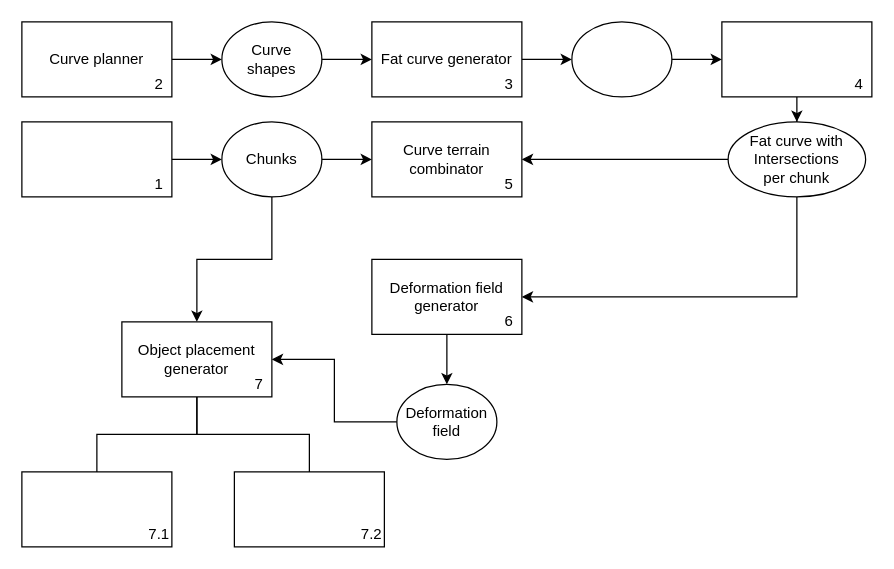
This 894x569 diagram has some shape labels left out. The shapes that lost their labels are listed below. From the top down, each one's box as (x1, y1, x2, y2) in pixels, then its label:
(571, 21, 672, 97): Fat curves
(721, 21, 872, 97): Fat curve intersection calculator
(21, 121, 172, 197): Terrain generator
(21, 471, 172, 547): PDD placement generator
(233, 471, 384, 547): Deformation field placement generator
